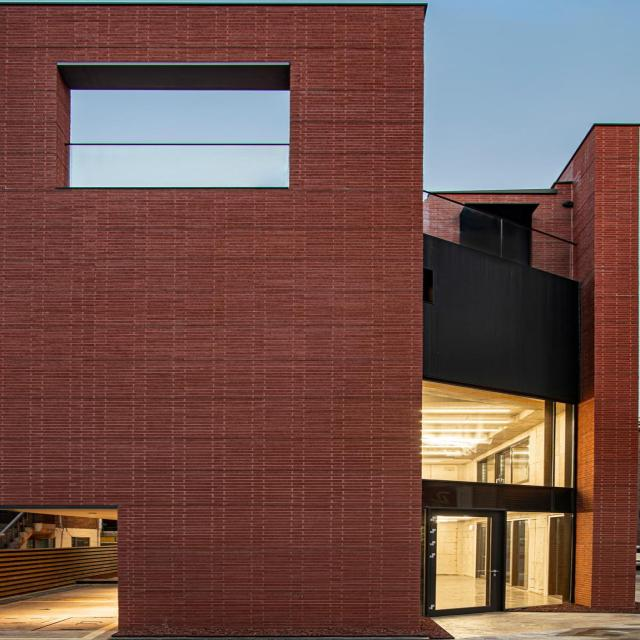door: (423, 506, 508, 621)
railing: (421, 188, 578, 280)
window: (61, 69, 291, 187), (421, 378, 579, 489), (509, 511, 578, 610)
